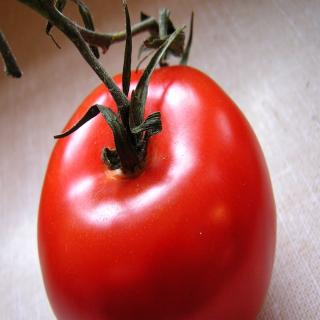tomato: (45, 43, 274, 320)
